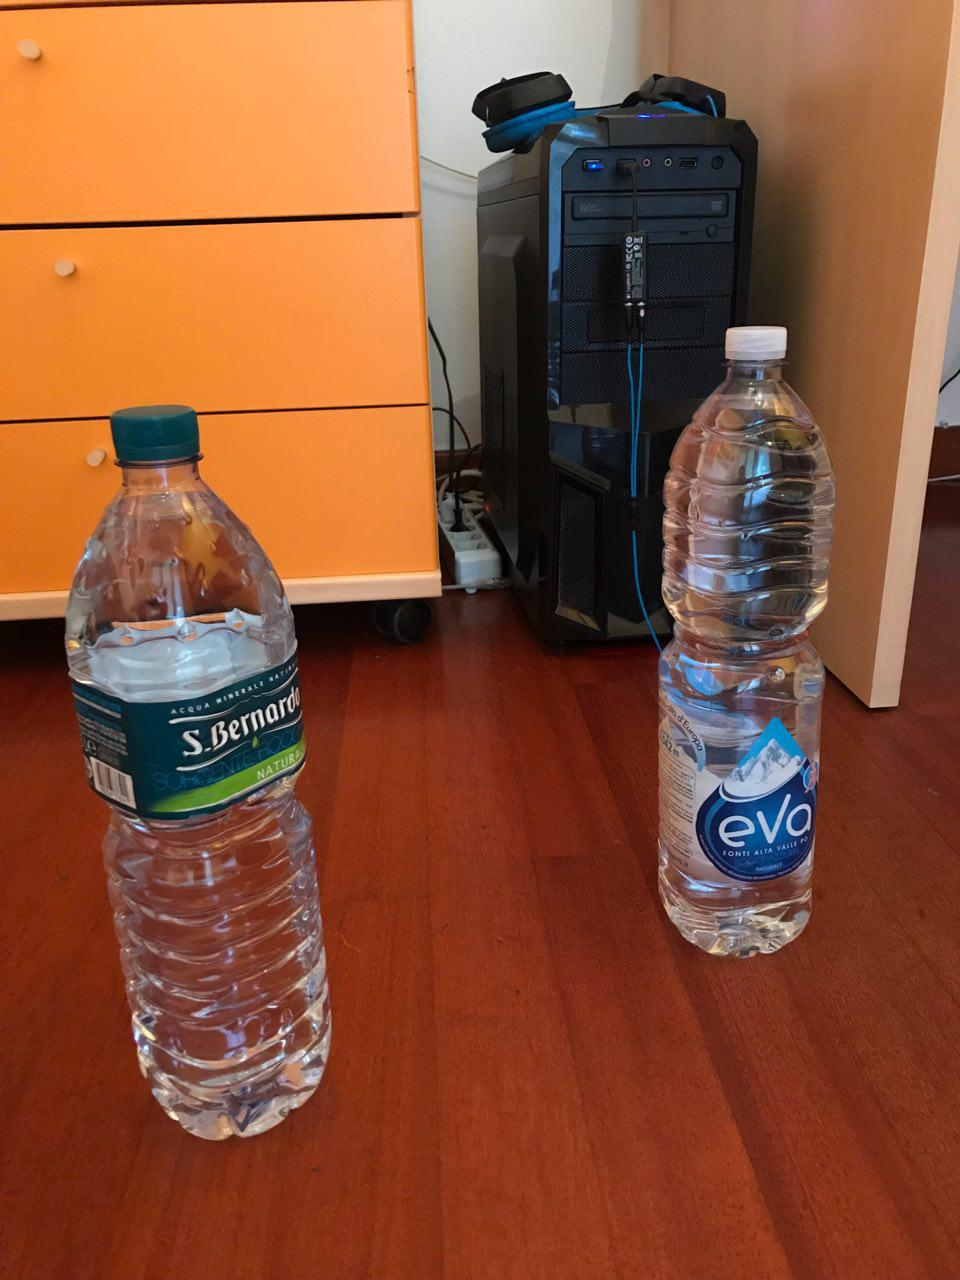san_bernardo: (61, 401, 333, 1143)
